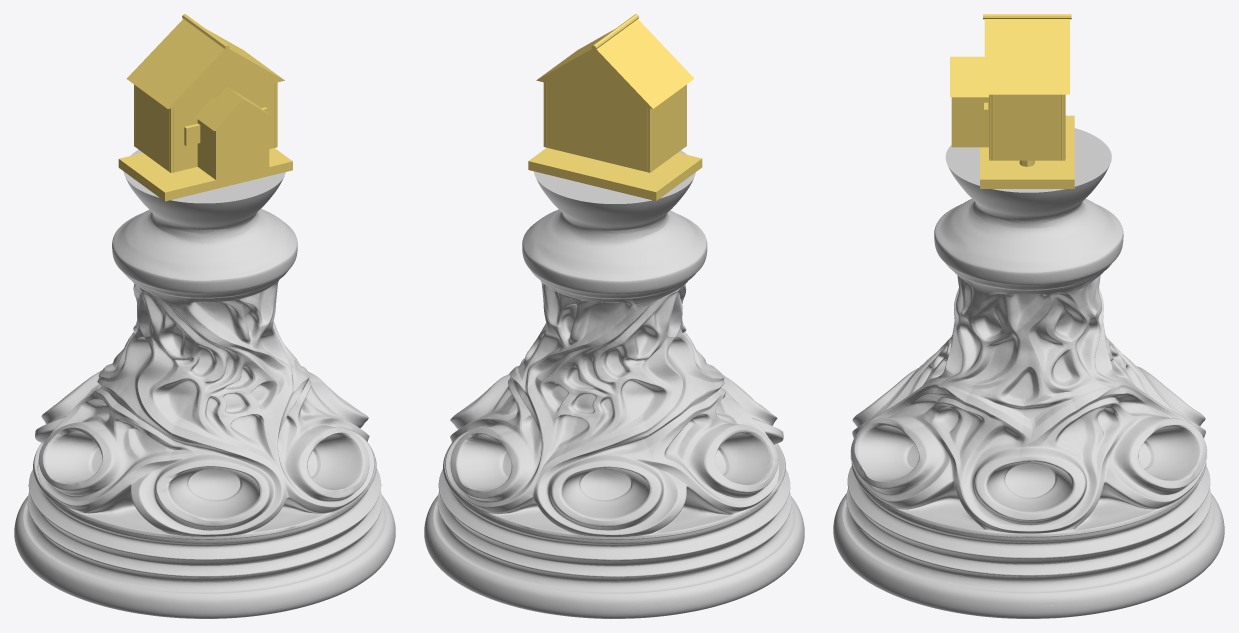
File: Pawn - The People.glb
3 renders of one model, left to right at view 1: azimuth 30°, elevation 25°; view 2: azimuth 150°, elevation 25°; view 3: azimuth 270°, elevation 25°, orthographic. The views are drawn at different scales.
Visible parts, largest first — view 1: obj_6_pion, ChattelHouse3D; view 2: obj_6_pion, ChattelHouse3D; view 3: obj_6_pion, ChattelHouse3D.
Part boxes in pixels (x1=…): obj_6_pion: x1=14, y1=149, x2=395, y2=618; ChattelHouse3D: x1=118, y1=14, x2=292, y2=201; obj_6_pion: x1=424, y1=150, x2=804, y2=618; ChattelHouse3D: x1=528, y1=14, x2=702, y2=200; obj_6_pion: x1=833, y1=128, x2=1224, y2=618; ChattelHouse3D: x1=950, y1=14, x2=1074, y2=188.
Size of the model in its own units: 0.5108 by 0.7555 by 0.5101.
